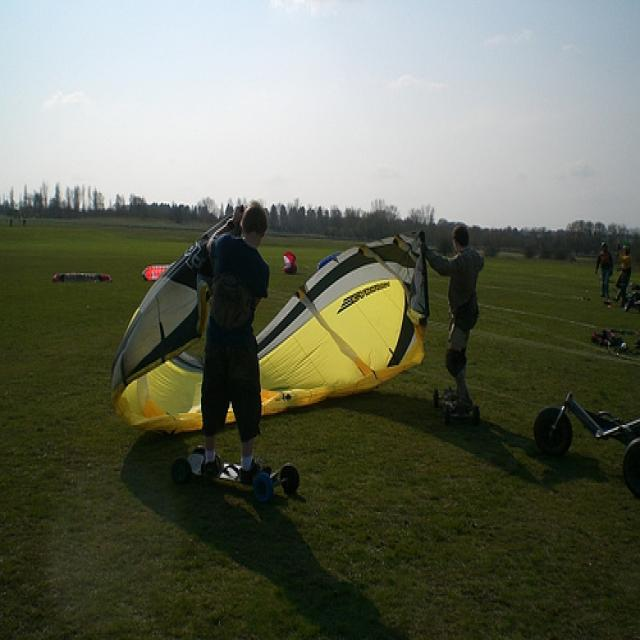person: (192, 184, 272, 493), (413, 209, 503, 436), (591, 235, 617, 303), (613, 235, 635, 313)
